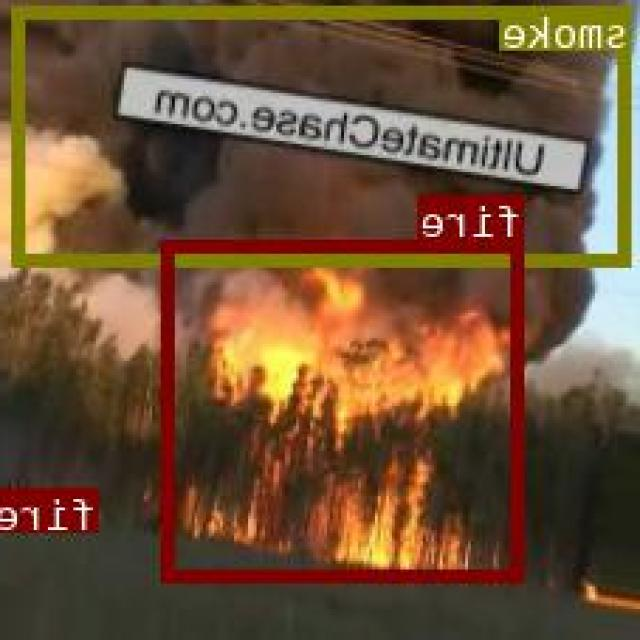fire: (165, 237, 526, 578), (23, 485, 101, 524)
smoke: (14, 4, 634, 264)
